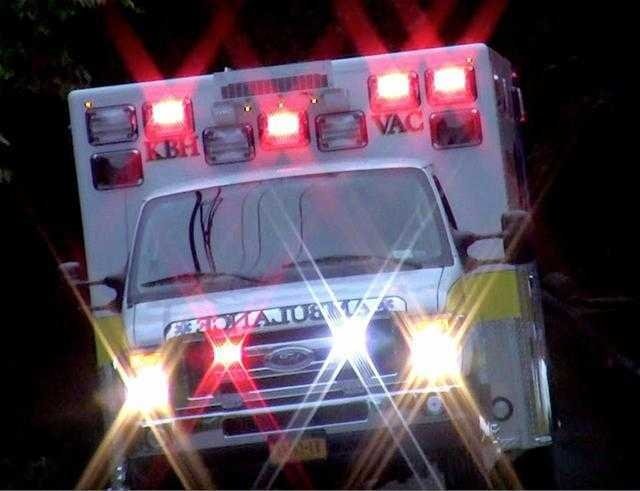Ambulance: (35, 59, 554, 484)
